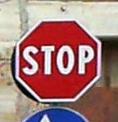stop: (13, 14, 99, 102)
